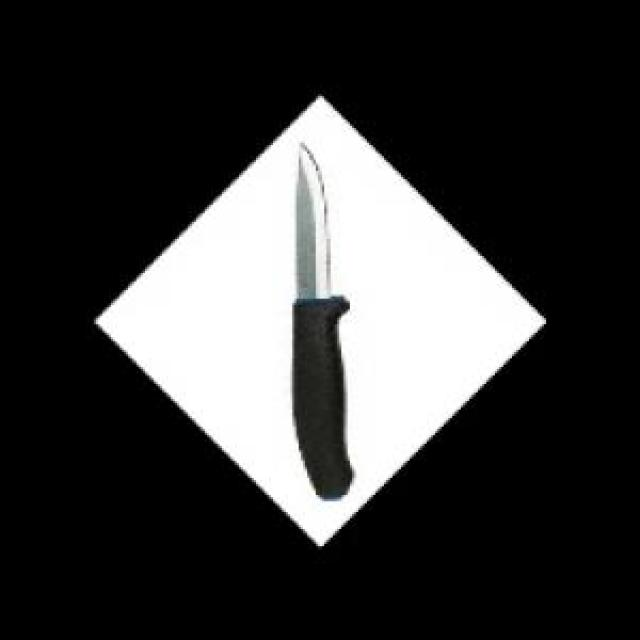knife: (290, 136, 354, 504)
